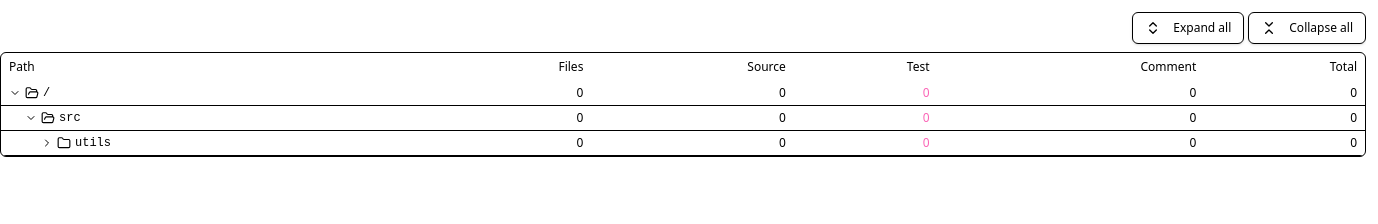
Scenario: directoryTree › expand-all reveals file leaves nested under deeper subdirectories
The width and height of the screenshot is (1378, 224).
Expected: the text "helpers.js" is not shown
Expected: the text "format.js" is not shown
Click the button "Expand all" at (1188, 28), box left=1132, top=12, right=1244, bottom=44
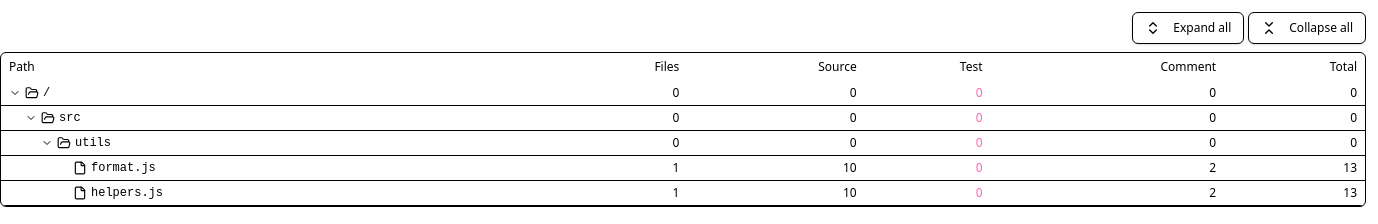
Now the text "helpers.js" is shown, box left=91, top=185, right=163, bottom=201
Now the text "format.js" is shown, box left=91, top=160, right=156, bottom=176
